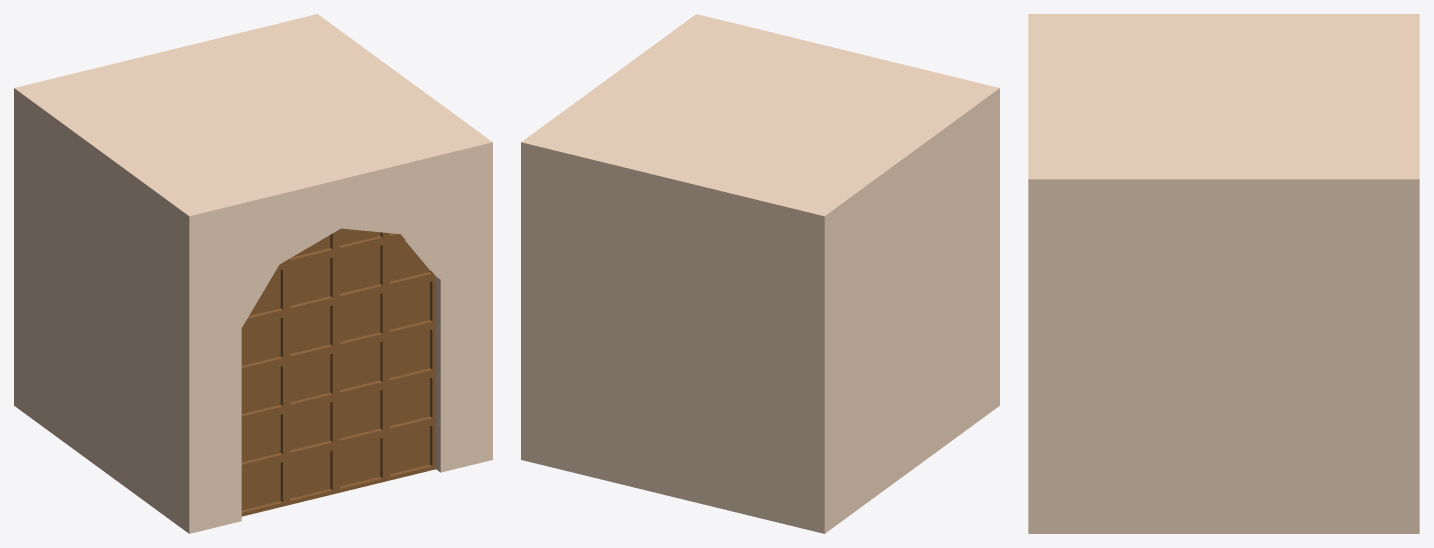
The model's file is Abstract_Modular_Door_Gate_1.0_Beige_01.fbx.
3 renders of one model, left to right at view 1: azimuth 30°, elevation 25°; view 2: azimuth 150°, elevation 25°; view 3: azimuth 270°, elevation 25°, orthographic. The views are drawn at different scales.
Visible parts, largest first — view 1: Abstract_Modular_Door_Gate_1.0_Beige_01; view 2: Abstract_Modular_Door_Gate_1.0_Beige_01; view 3: Abstract_Modular_Door_Gate_1.0_Beige_01.
Boxes of the visible parts, left/top/right/bottom form: Abstract_Modular_Door_Gate_1.0_Beige_01: left=14, top=14, right=492, bottom=533; Abstract_Modular_Door_Gate_1.0_Beige_01: left=521, top=14, right=999, bottom=533; Abstract_Modular_Door_Gate_1.0_Beige_01: left=1028, top=14, right=1419, bottom=533.
Bounding box in the file's own units: 118 × 118 × 118.
